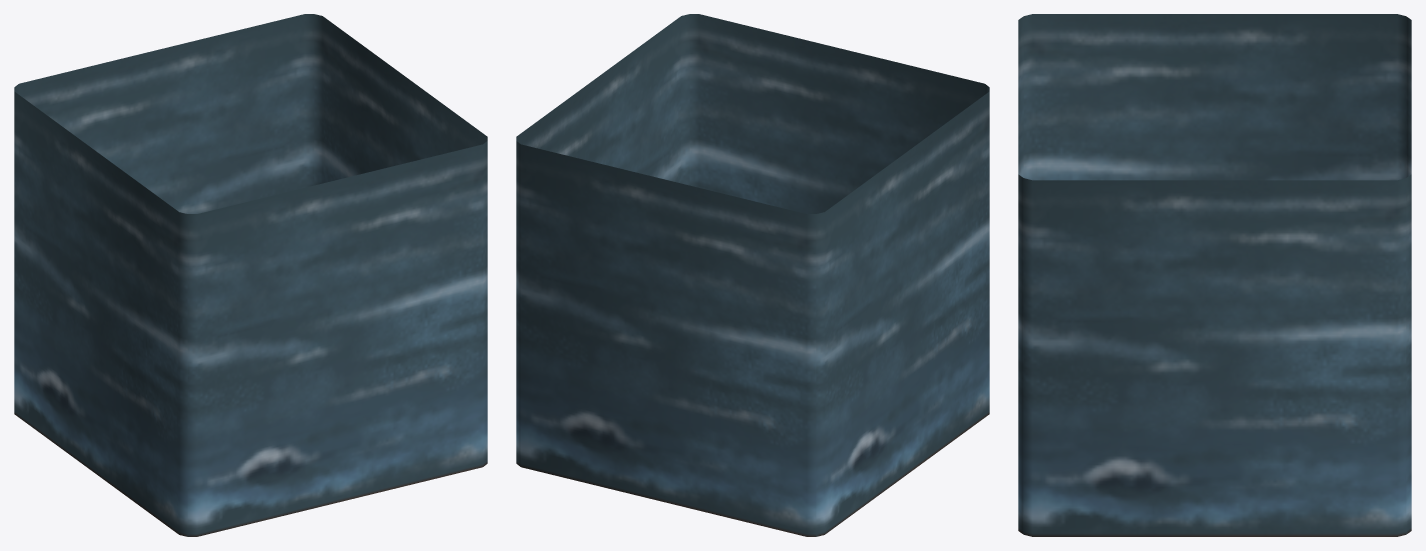
The model's file is Block_Rounded_SnowBase.fbx.
3 views of the same model, side by side, from view 1: azimuth 30°, elevation 25°; view 2: azimuth 150°, elevation 25°; view 3: azimuth 270°, elevation 25° (orthographic). The views are drawn at different scales.
Parts seen in each view (by area): view 1: Block_Rounded_SnowBase; view 2: Block_Rounded_SnowBase; view 3: Block_Rounded_SnowBase.
Boxes of the visible parts, bbox=[...] form: Block_Rounded_SnowBase: bbox=[14, 14, 487, 536]; Block_Rounded_SnowBase: bbox=[516, 14, 989, 536]; Block_Rounded_SnowBase: bbox=[1018, 14, 1411, 536].
Size of the model in its own units: 100 by 100 by 100.
